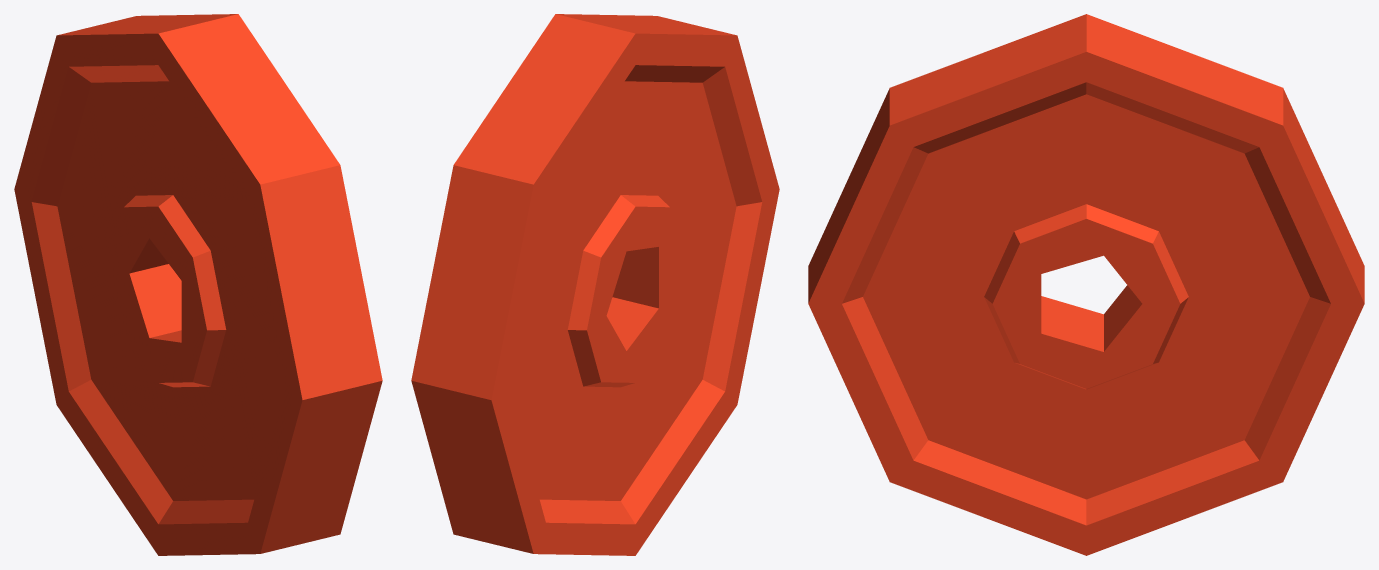
Rendered from SM_Weight_Gym_B_City.fbx.
3 renders of one model, left to right at view 1: azimuth 30°, elevation 25°; view 2: azimuth 150°, elevation 25°; view 3: azimuth 270°, elevation 25°, orthographic. The views are drawn at different scales.
Parts seen in each view (by area): view 1: SM_Weight_Gym_B_City; view 2: SM_Weight_Gym_B_City; view 3: SM_Weight_Gym_B_City.
Part boxes in pixels (box(x1,y1,x2,y2)): SM_Weight_Gym_B_City: box(14, 14, 382, 555); SM_Weight_Gym_B_City: box(411, 14, 779, 555); SM_Weight_Gym_B_City: box(808, 14, 1364, 555).
Bounding box in the file's own units: 0.0508 × 0.3165 × 0.3165.
